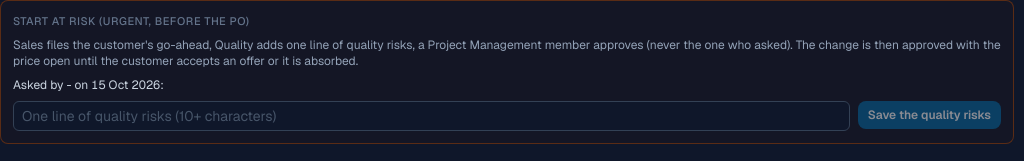
Test: StartAtRiskCard (§7a) › Quality writes the line; the asker never sees an approve button
Expected: the button with test id "sar-quality-save" is disabled, [858,101,1001,129]
Step 1. Type "first lot 100 % checked" into the field with test id "sar-quality-note" → x=431, y=116, box [13,101,850,131]
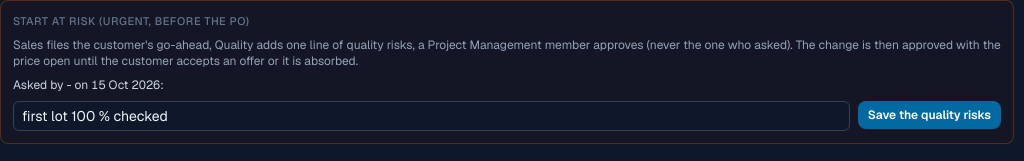
Now the button with test id "sar-quality-save" is enabled, box [858,101,1001,129]
